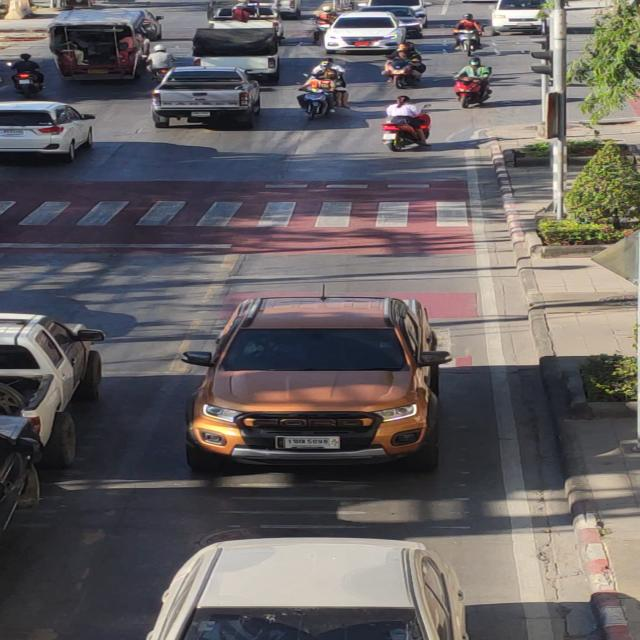car: (148, 276, 476, 472)
